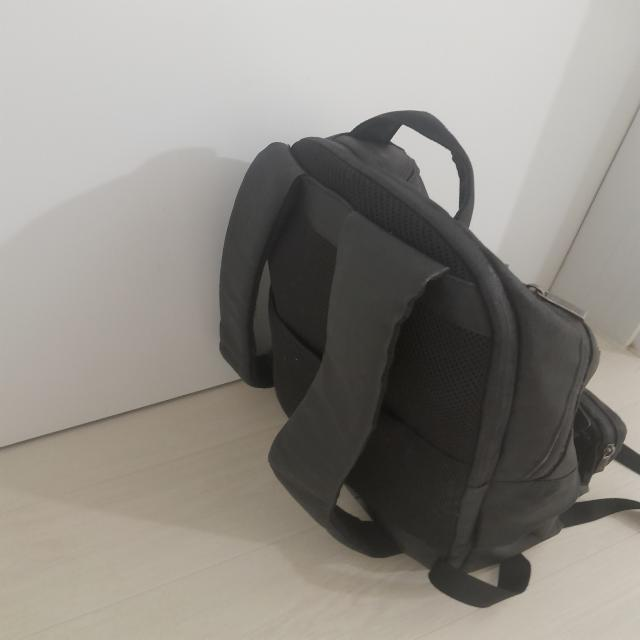backpack: (220, 111, 640, 612)
